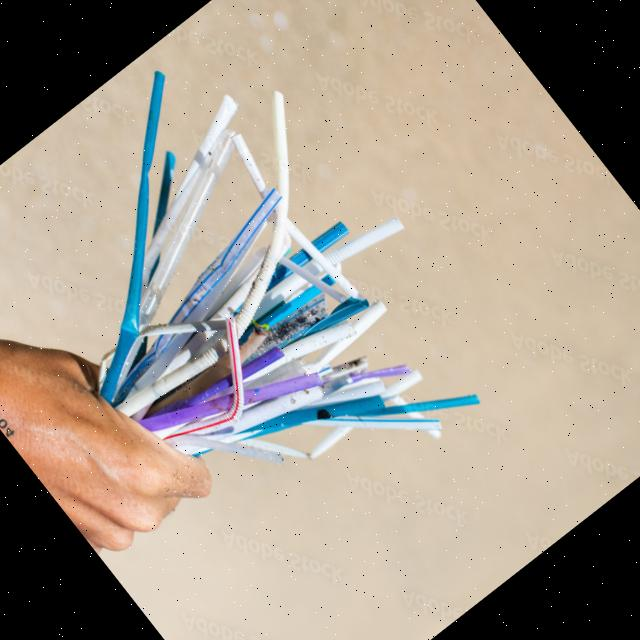plastic: (129, 308, 287, 465)
